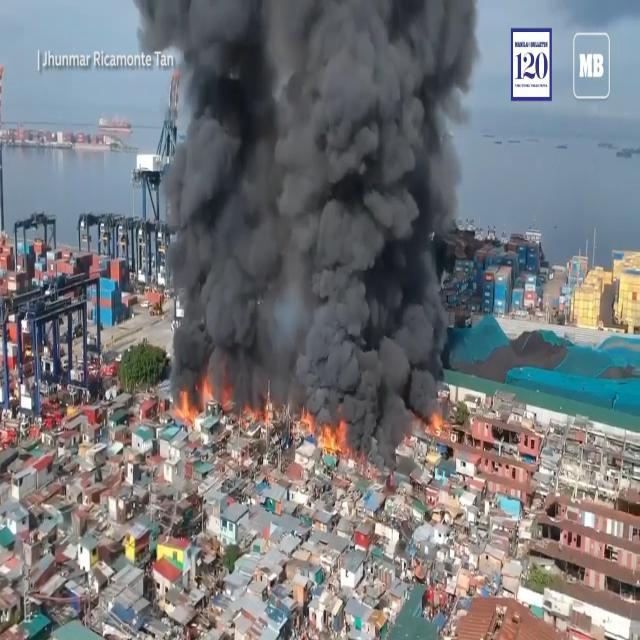Fire: (293, 391, 352, 464), (169, 365, 227, 427), (235, 388, 275, 433), (424, 406, 456, 444)
Smoke: (130, 1, 483, 475)
